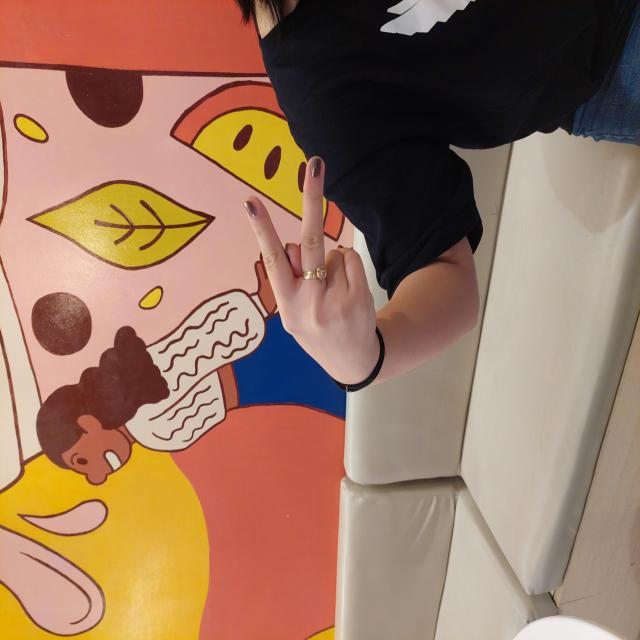K: (258, 241, 486, 378)
